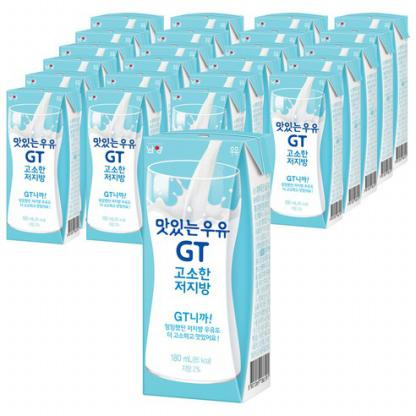tetra: (128, 122, 294, 410)
